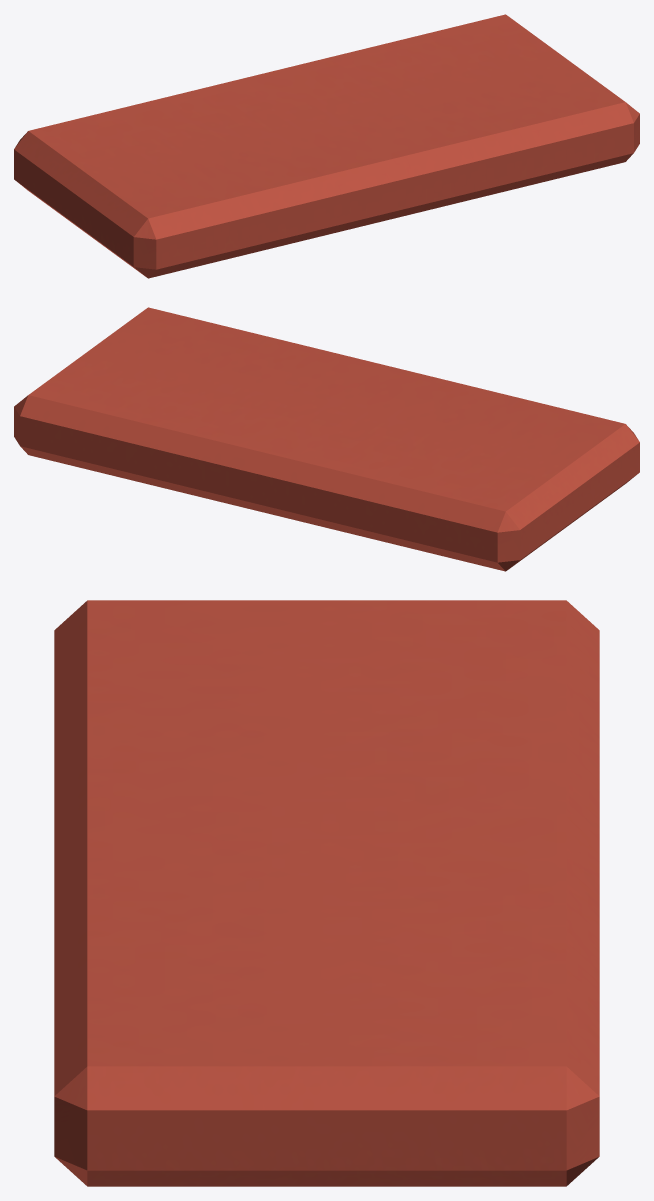
File: Pillow_2.fbx
3 views of the same model, one above another, from view 1: azimuth 30°, elevation 25°; view 2: azimuth 150°, elevation 25°; view 3: azimuth 270°, elevation 25° (orthographic). The views are drawn at different scales.
Parts seen in each view (by area): view 1: pCube574; view 2: pCube574; view 3: pCube574.
Part boxes in pixels (x1,y1,x2,y2): pCube574: (14, 14, 639, 278); pCube574: (14, 307, 639, 571); pCube574: (54, 600, 599, 1186).
Size of the model in its own units: 75 by 8.5 by 35.
